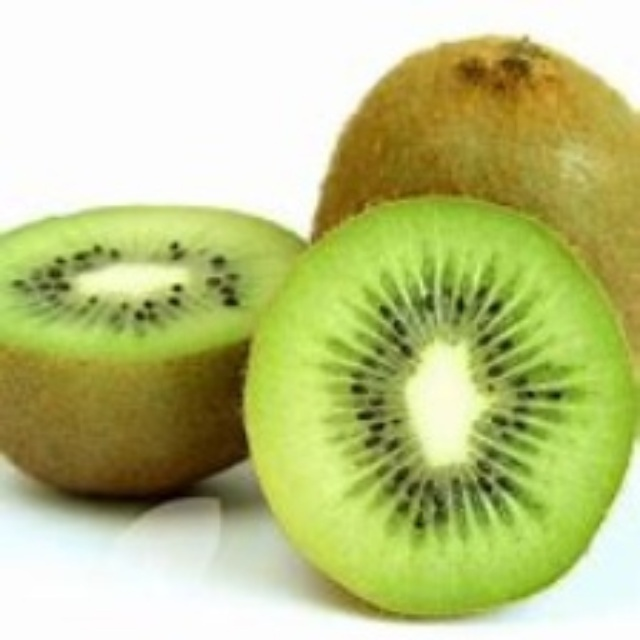kiwi: (247, 191, 631, 622), (313, 35, 639, 377), (2, 202, 307, 498)
